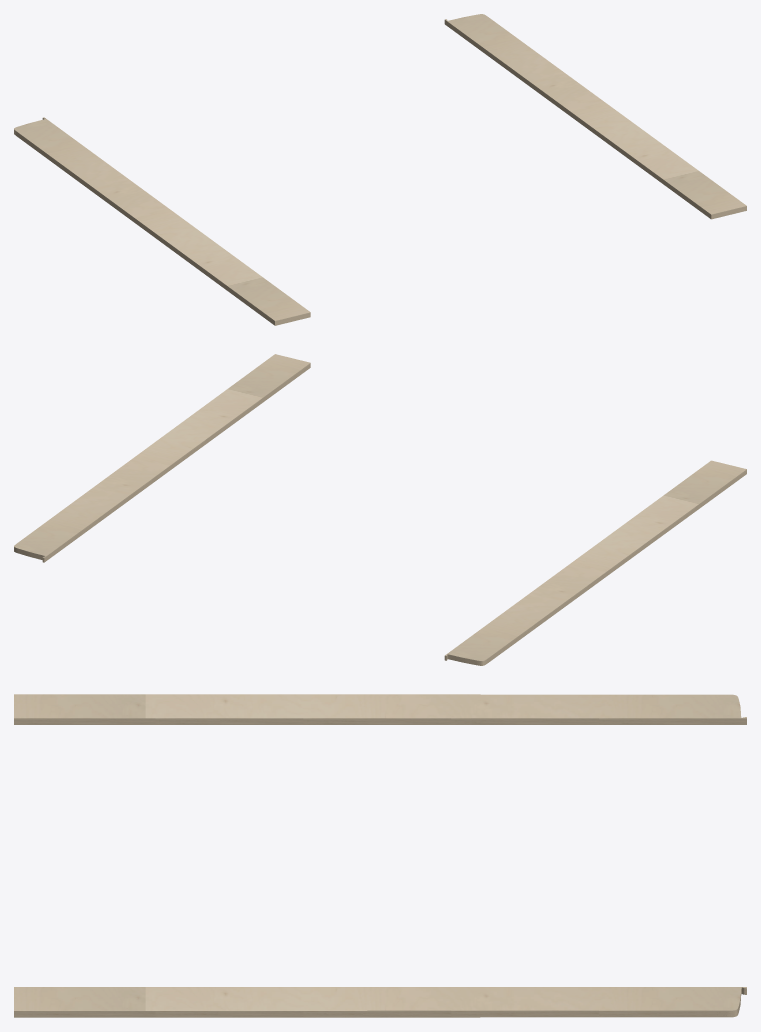
Rendered from lounge-fillers-birch.glb.
The picture shows the model from 3 angles, top to bottom: view 1: azimuth 30°, elevation 25°; view 2: azimuth 150°, elevation 25°; view 3: azimuth 270°, elevation 25°; orthographic projection. The views are drawn at different scales.
Visible parts, largest first — view 1: Bed side filler positive - 115x15mm_1, Bed side filler negative - 115x15mm_1, Bed side filler positive - 115x15mm_0, Bed side filler negative - 115x15mm_0; view 2: Bed side filler positive - 115x15mm_1, Bed side filler negative - 115x15mm_1, Bed side filler negative - 115x15mm_0, Bed side filler positive - 115x15mm_0; view 3: Bed side filler negative - 115x15mm_1, Bed side filler positive - 115x15mm_1, Bed side filler positive - 115x15mm_0, Bed side filler negative - 115x15mm_0.
Part boxes in pixels (x1,y1,x2,y2): Bed side filler positive - 115x15mm_1: [445, 14, 746, 214]; Bed side filler negative - 115x15mm_1: [14, 117, 310, 320]; Bed side filler positive - 115x15mm_0: [444, 20, 746, 219]; Bed side filler negative - 115x15mm_0: [14, 118, 310, 325]; Bed side filler positive - 115x15mm_1: [14, 354, 310, 557]; Bed side filler negative - 115x15mm_1: [445, 460, 746, 660]; Bed side filler negative - 115x15mm_0: [444, 469, 746, 665]; Bed side filler positive - 115x15mm_0: [14, 363, 310, 562]; Bed side filler negative - 115x15mm_1: [14, 694, 746, 718]; Bed side filler positive - 115x15mm_1: [14, 987, 746, 1010]; Bed side filler positive - 115x15mm_0: [14, 987, 746, 1017]; Bed side filler negative - 115x15mm_0: [14, 718, 746, 724].
Size of the model in its own units: 1.52 by 0.015 by 1.49.
Materials: 2 (2 with a texture image).
